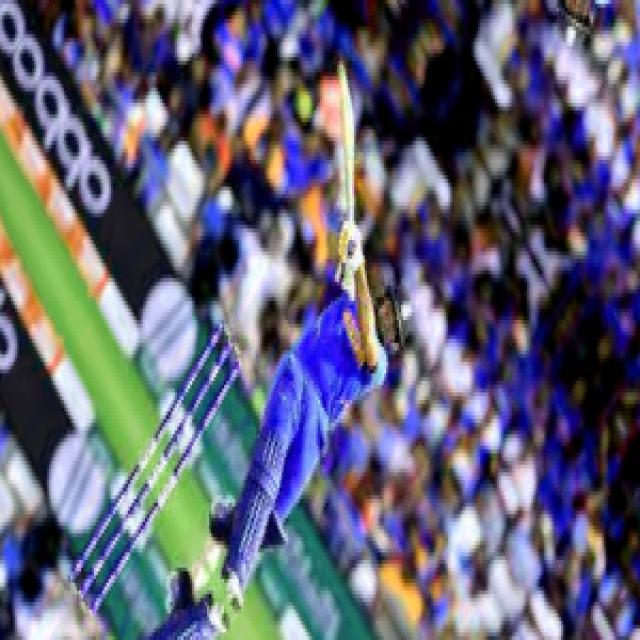toe: (334, 39, 352, 104)
